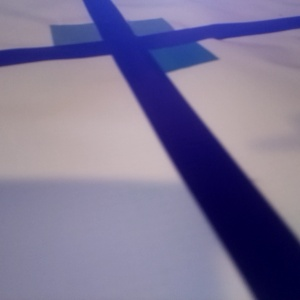top_left: (130, 103, 234, 184)
